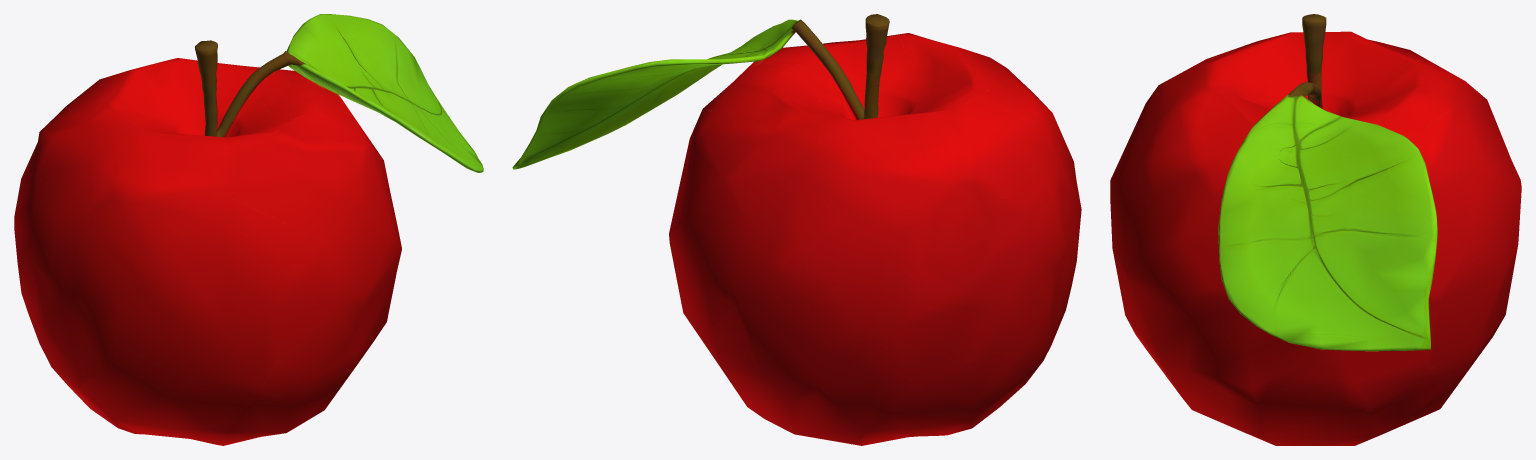
Rendered from Meshy_AI_A_low_poly_apple_0517121824_texture.fbx.
3 renders of one model, left to right at view 1: azimuth 30°, elevation 25°; view 2: azimuth 150°, elevation 25°; view 3: azimuth 270°, elevation 25°, orthographic. The views are drawn at different scales.
Visible parts, largest first — view 1: Mesh_0; view 2: Mesh_0; view 3: Mesh_0.
Part boxes in pixels (<box>): Mesh_0: <box>14,14,483,445</box>; Mesh_0: <box>512,14,1081,445</box>; Mesh_0: <box>1110,14,1521,445</box>.
Size of the model in its own units: 190 by 144 by 140.
Materials: 1 (1 with a texture image).
